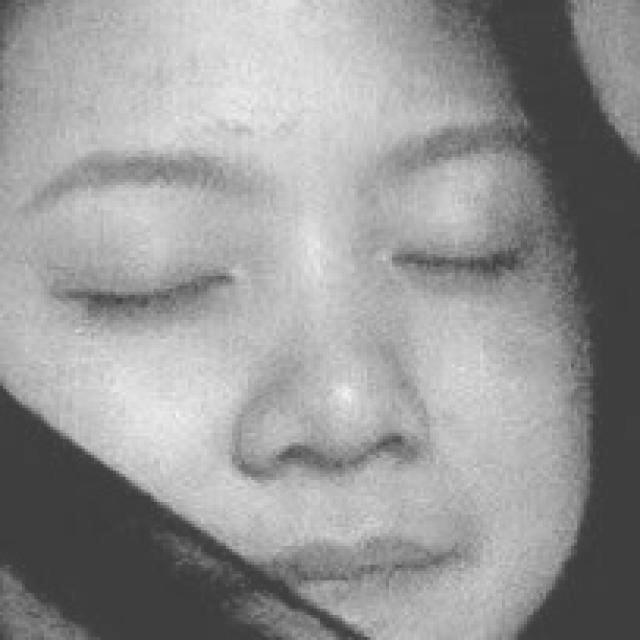real: (4, 1, 590, 640), (54, 208, 552, 342)
